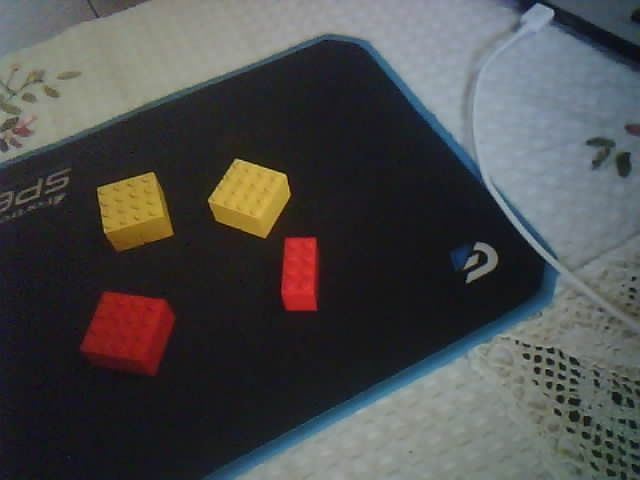lego: (79, 290, 176, 377), (207, 157, 291, 240), (95, 171, 174, 253), (280, 236, 321, 313)
